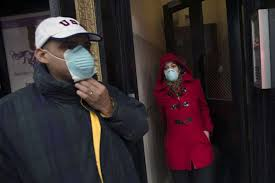mask: (35, 29, 95, 78), (162, 58, 178, 79)
